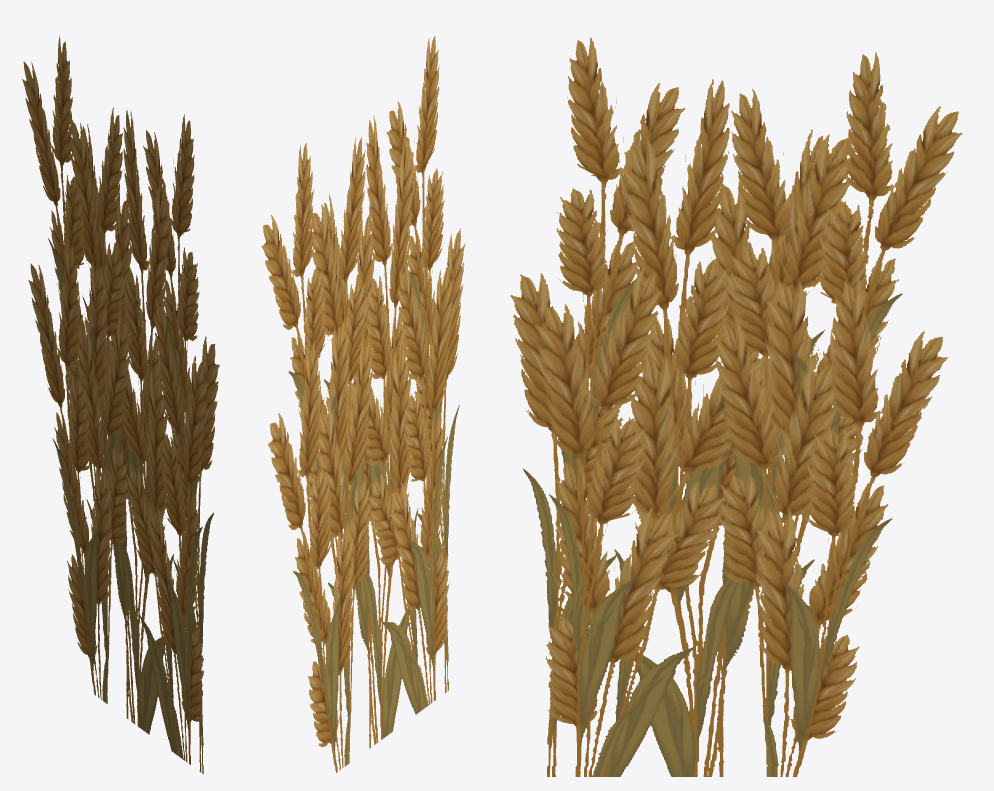
File: WheatCrop_large.fbx
3 views of the same model, side by side, from view 1: azimuth 30°, elevation 25°; view 2: azimuth 150°, elevation 25°; view 3: azimuth 270°, elevation 25° (orthographic). The views are drawn at different scales.
Visible parts, largest first — view 1: WheatCrop_large; view 2: WheatCrop_large; view 3: WheatCrop_large.
Part boxes in pixels (left/top/right/bottom): WheatCrop_large: left=22, top=35, right=219, bottom=774; WheatCrop_large: left=261, top=36, right=465, bottom=772; WheatCrop_large: left=510, top=37, right=962, bottom=776.
Bounding box in the file's own units: 6.26e-19 × 0.7065 × 0.4036.
